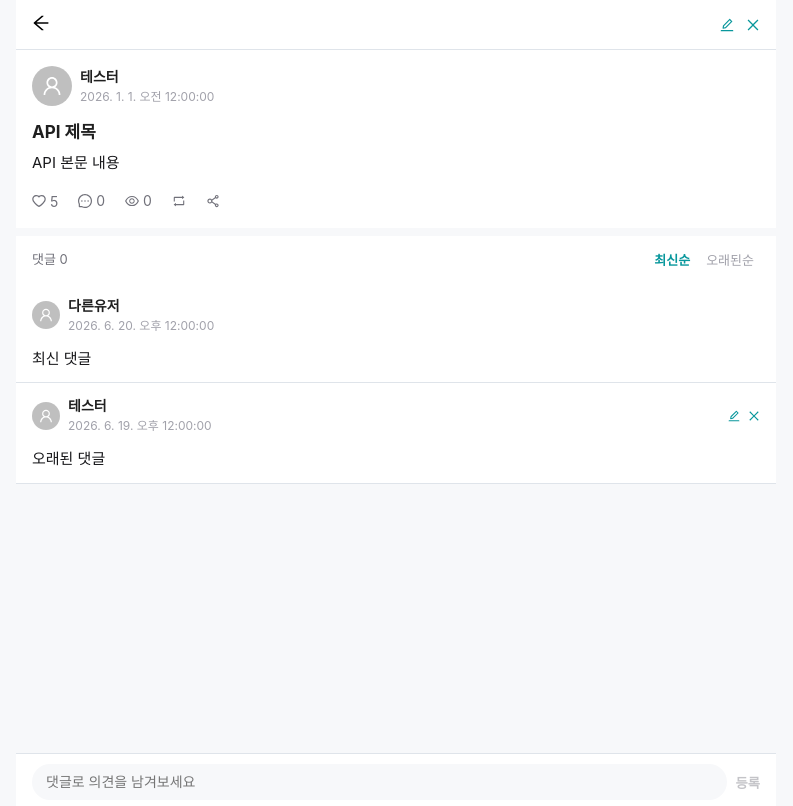
Scenario: CommunityDetailPage › 취소하면 편집 모드가 종료되고 원래 내용이 유지된다
Expected: the text "오래된 댓글" is shown, [32,449,105,468]
Click the button named "댓글 수정". click: [734, 416]
box: [728,410,740,422]
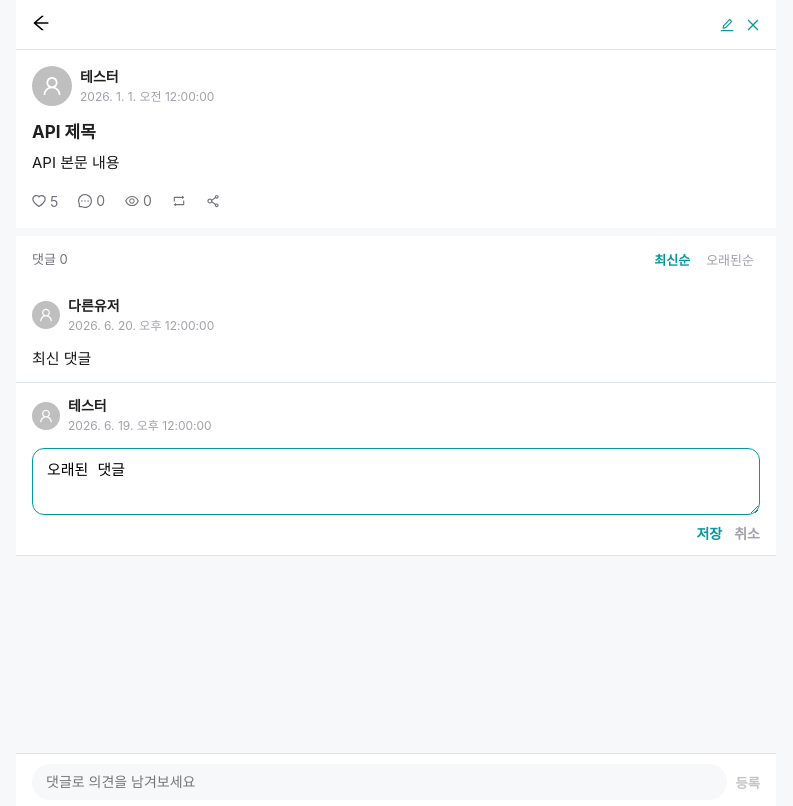
Replace the text in the text box named "댓글 수정 입력" with "취소할 편집". click: [396, 482]
box: [32,448,760,515]
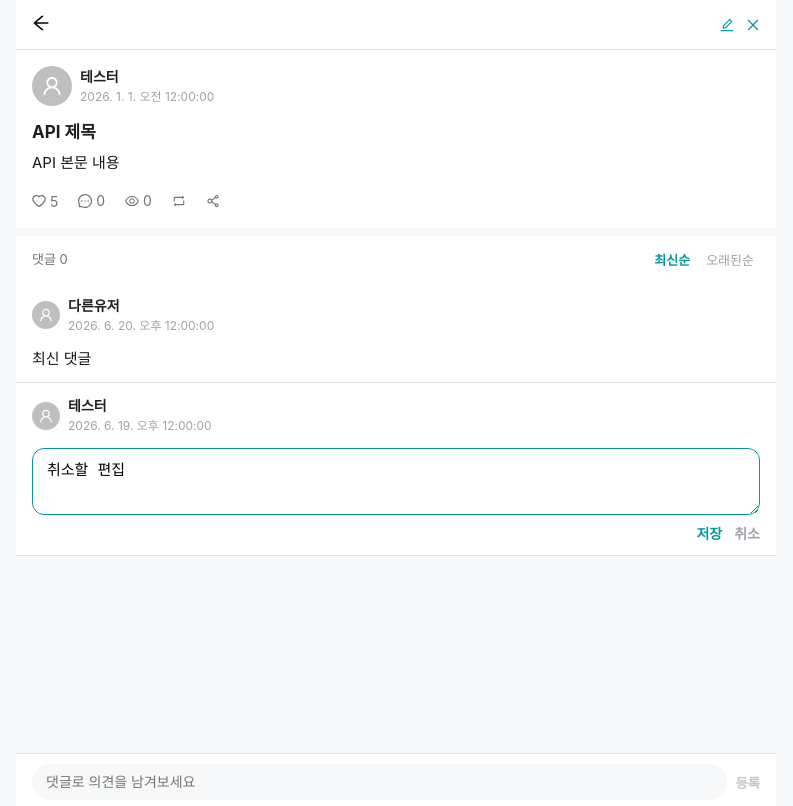
Click the button "취소". click: [747, 533]
box: [734,523,760,543]
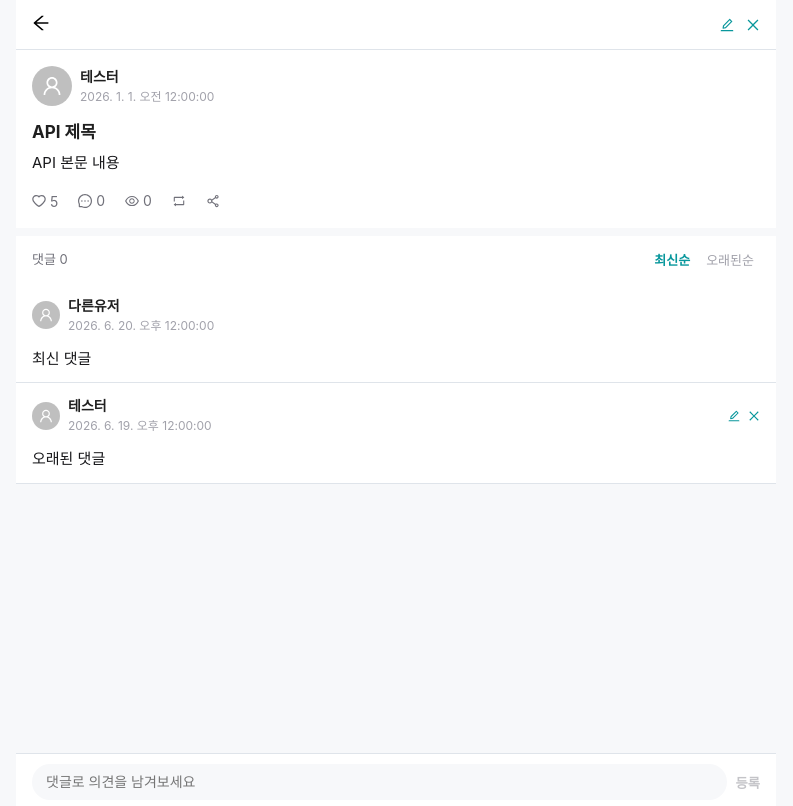
Result: the text "오래된 댓글" is shown at [32,449,105,468]
